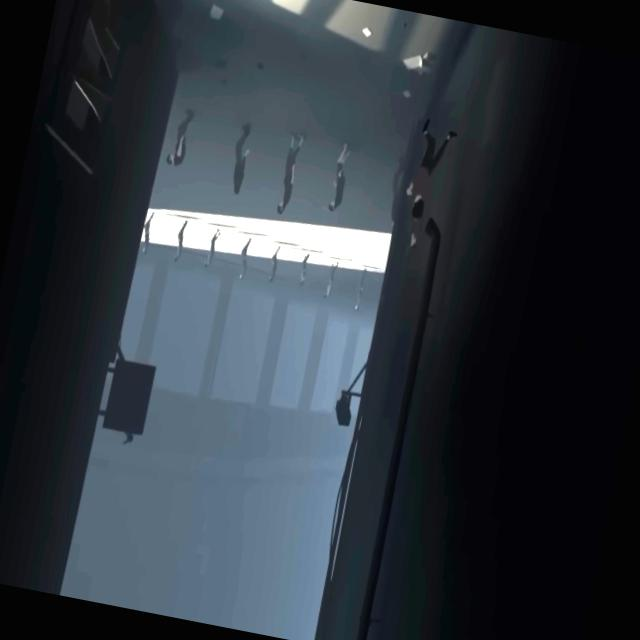boy: (396, 116, 459, 252)
zombie: (274, 132, 304, 216), (226, 123, 254, 196), (328, 142, 352, 212), (166, 110, 193, 168), (204, 228, 222, 270), (236, 236, 252, 281), (173, 219, 188, 263), (140, 210, 154, 256), (323, 260, 339, 300), (354, 268, 366, 311), (268, 245, 280, 282), (298, 253, 310, 288)
